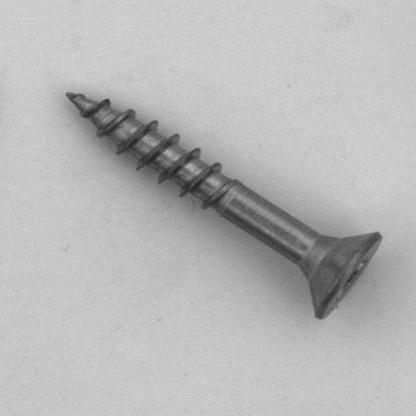metal: (65, 92, 387, 322)
